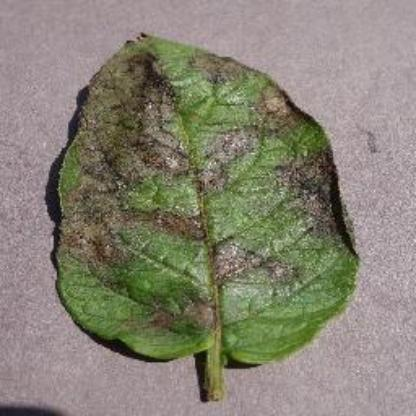Late-Blight: (51, 9, 371, 365)
